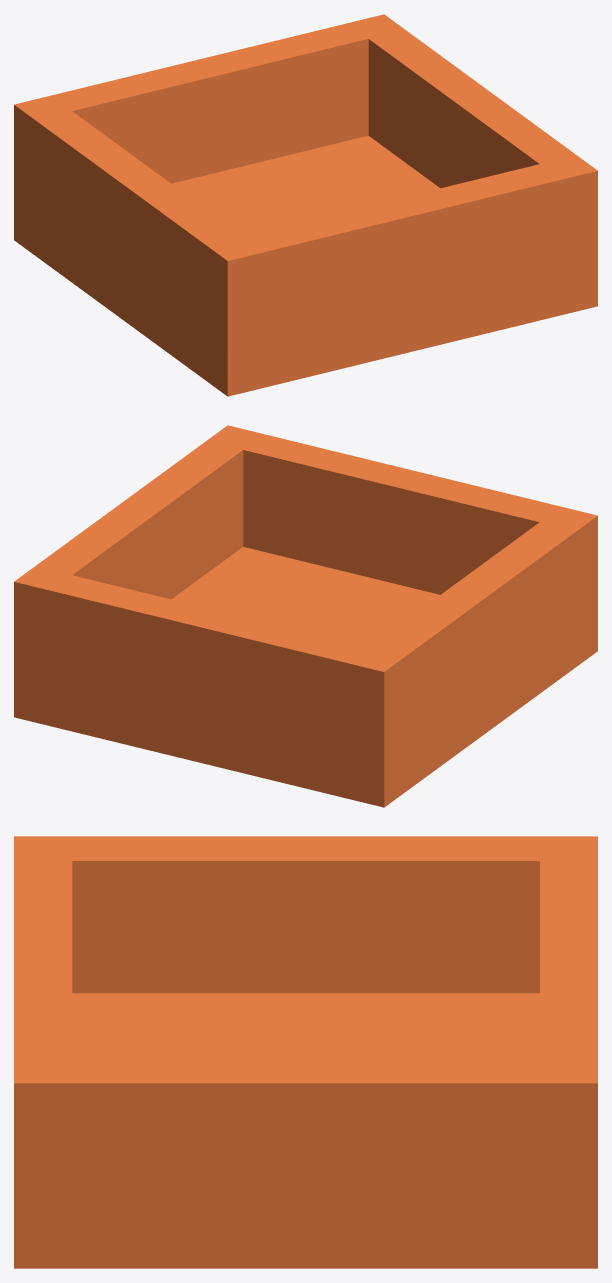
File: OrangeRoof_4Edges_Small.glb
3 views of the same model, one above another, from view 1: azimuth 30°, elevation 25°; view 2: azimuth 150°, elevation 25°; view 3: azimuth 270°, elevation 25° (orthographic). The views are drawn at different scales.
Parts seen in each view (by area): view 1: roof_flat_4Edges_small_orange; view 2: roof_flat_4Edges_small_orange; view 3: roof_flat_4Edges_small_orange.
Boxes of the visible parts, <box> form: roof_flat_4Edges_small_orange: <box>14,14,597,396</box>; roof_flat_4Edges_small_orange: <box>14,425,597,807</box>; roof_flat_4Edges_small_orange: <box>14,836,597,1268</box>.
Size of what is drawn, in the model's own units: 2 by 0.7 by 2.
Materials: 1 (1 with a texture image).
